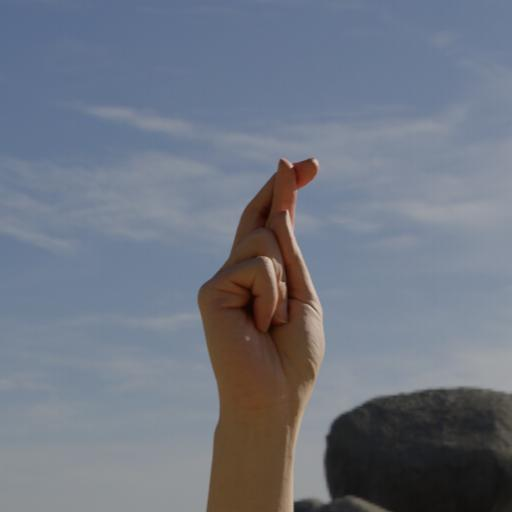R: (173, 142, 354, 424)
